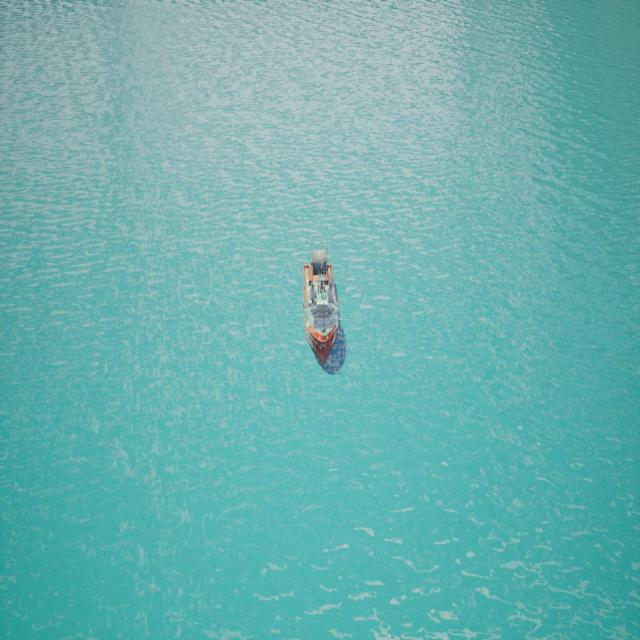tug boat: (302, 248, 344, 377)
